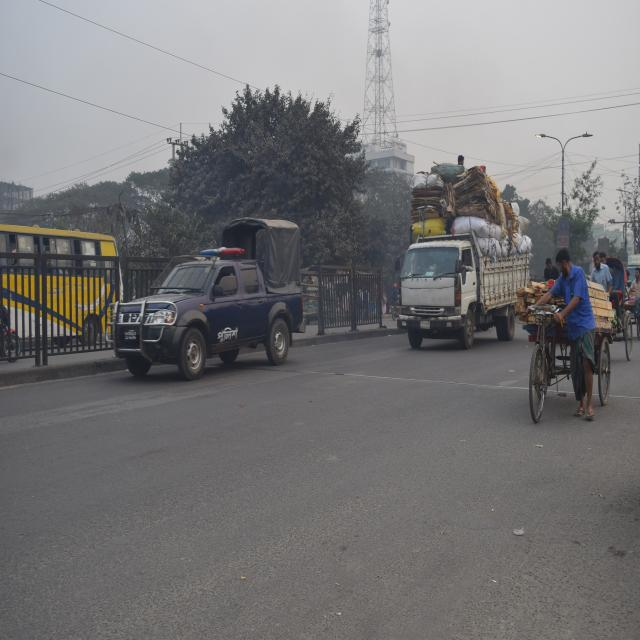bus: (0, 214, 133, 355)
car: (109, 214, 313, 382)
motorbike: (0, 302, 24, 369)
pickup-van: (390, 230, 532, 357)
